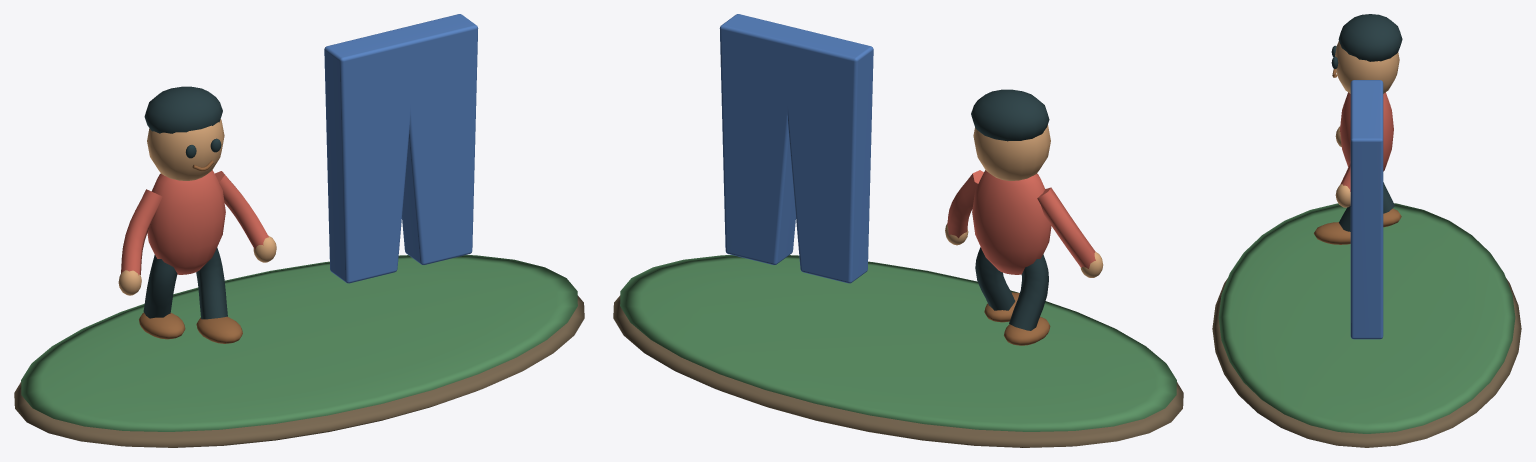
Rendered from child-trousers.glb.
3 views of the same model, side by side, from view 1: azimuth 30°, elevation 25°; view 2: azimuth 150°, elevation 25°; view 3: azimuth 270°, elevation 25° (orthographic). The views are drawn at different scales.
Visible parts, largest first — view 1: child-trousers_surface_01, child-trousers_surface_02, child-trousers_surface_00, child-trousers_surface_06, child-trousers_surface_04, child-trousers_surface_03, child-trousers_surface_05; view 2: child-trousers_surface_01, child-trousers_surface_02, child-trousers_surface_00, child-trousers_surface_06, child-trousers_surface_04, child-trousers_surface_03, child-trousers_surface_05; view 3: child-trousers_surface_01, child-trousers_surface_02, child-trousers_surface_00, child-trousers_surface_04, child-trousers_surface_03, child-trousers_surface_06, child-trousers_surface_05.
Part boxes in pixels (box(x1,y1,x2,y2)): child-trousers_surface_01: box(21, 255, 577, 431); child-trousers_surface_02: box(324, 14, 478, 283); child-trousers_surface_00: box(14, 295, 584, 447); child-trousers_surface_06: box(120, 170, 268, 275); child-trousers_surface_04: box(143, 86, 227, 319); child-trousers_surface_03: box(118, 119, 276, 295); child-trousers_surface_05: box(139, 160, 242, 343); child-trousers_surface_01: box(620, 255, 1176, 431); child-trousers_surface_02: box(719, 14, 873, 283); child-trousers_surface_00: box(613, 295, 1183, 447); child-trousers_surface_06: box(947, 170, 1095, 274); child-trousers_surface_04: box(971, 89, 1049, 330); child-trousers_surface_03: box(945, 125, 1103, 277); child-trousers_surface_05: box(984, 292, 1050, 345); child-trousers_surface_01: box(1218, 203, 1515, 433); child-trousers_surface_02: box(1350, 80, 1383, 339); child-trousers_surface_00: box(1212, 278, 1521, 447); child-trousers_surface_04: box(1331, 14, 1402, 231); child-trousers_surface_03: box(1335, 41, 1399, 207); child-trousers_surface_06: box(1339, 92, 1393, 191); child-trousers_surface_05: box(1314, 69, 1401, 244).
Size of the model in its own units: 4.56 by 2.49 by 2.5.
